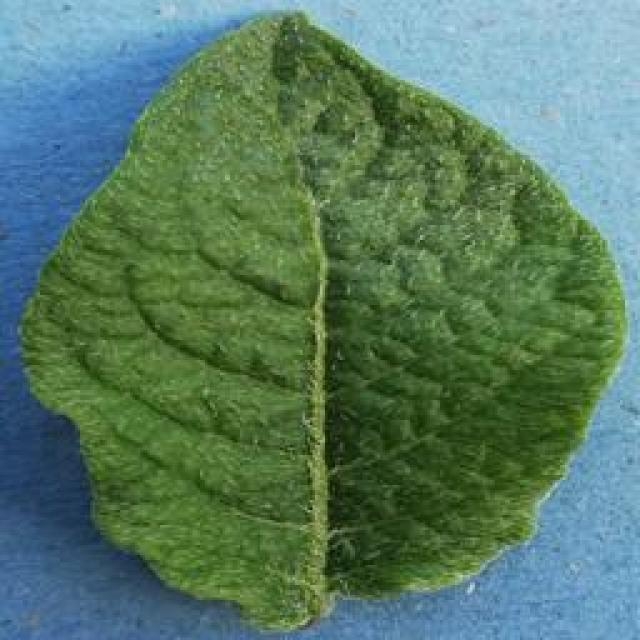Potato_Healthy: (22, 10, 618, 628)
